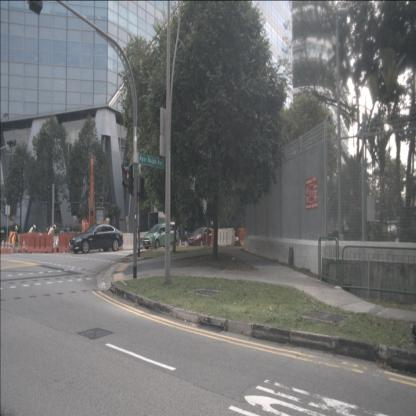barrier: (28, 233, 53, 254), (58, 233, 78, 253), (218, 228, 234, 246), (18, 232, 29, 252), (122, 233, 134, 250), (238, 228, 248, 246)
cone: (0, 239, 5, 254), (7, 240, 12, 255), (53, 239, 58, 253), (4, 240, 8, 254), (22, 239, 26, 253), (13, 242, 16, 254), (178, 238, 182, 247), (184, 240, 187, 247)
